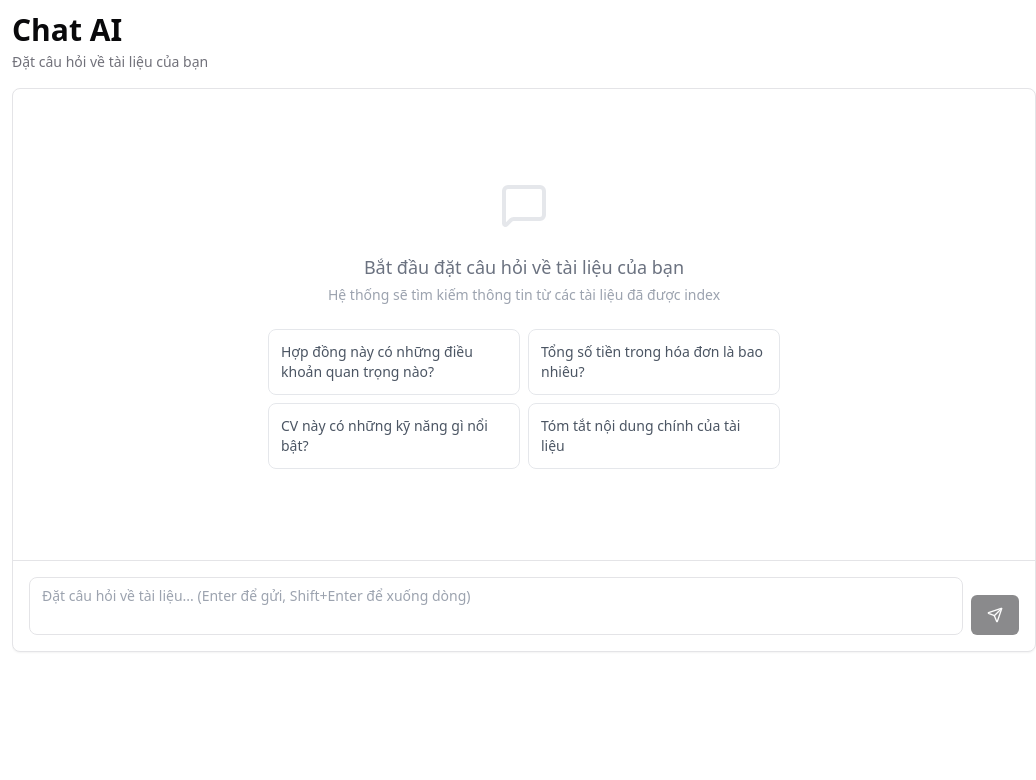
Test: ChatPage › shows AI answer with sources after response
The width and height of the screenshot is (1036, 780).
Replace the text in the text box named "nhập câu hỏi" with "Tổng tiền là bao nhiêu?" at (496, 606), box [29,577,963,635]
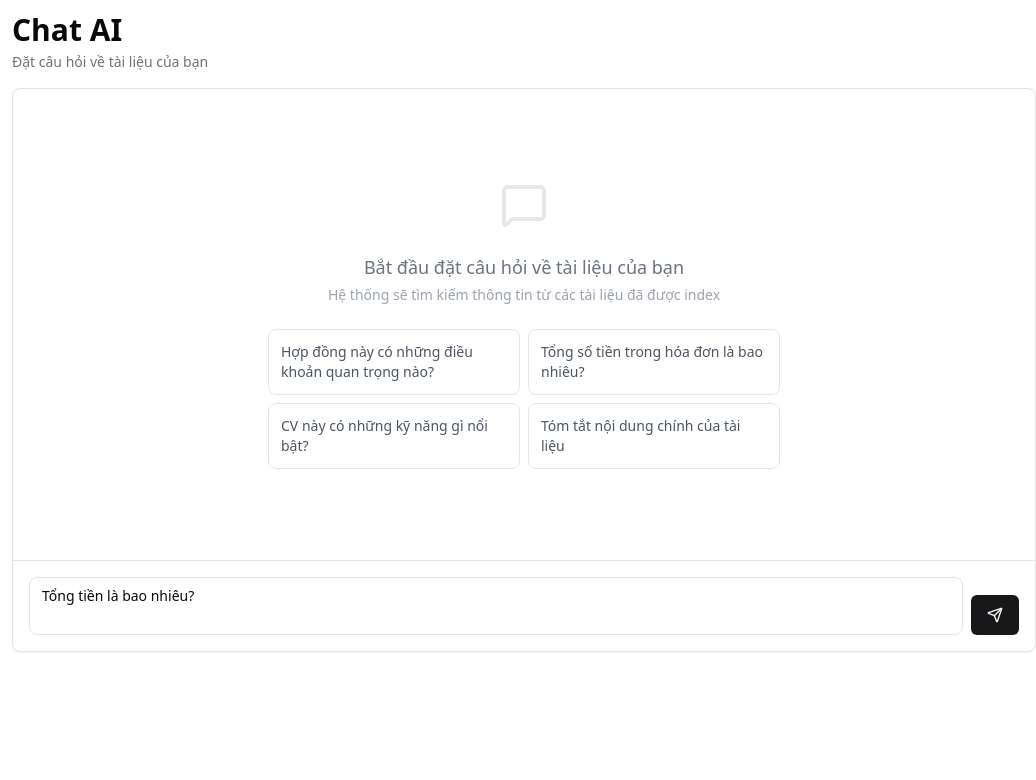
Click the button named "gửi tin nhắn" at (995, 615), box [971,595,1019,635]
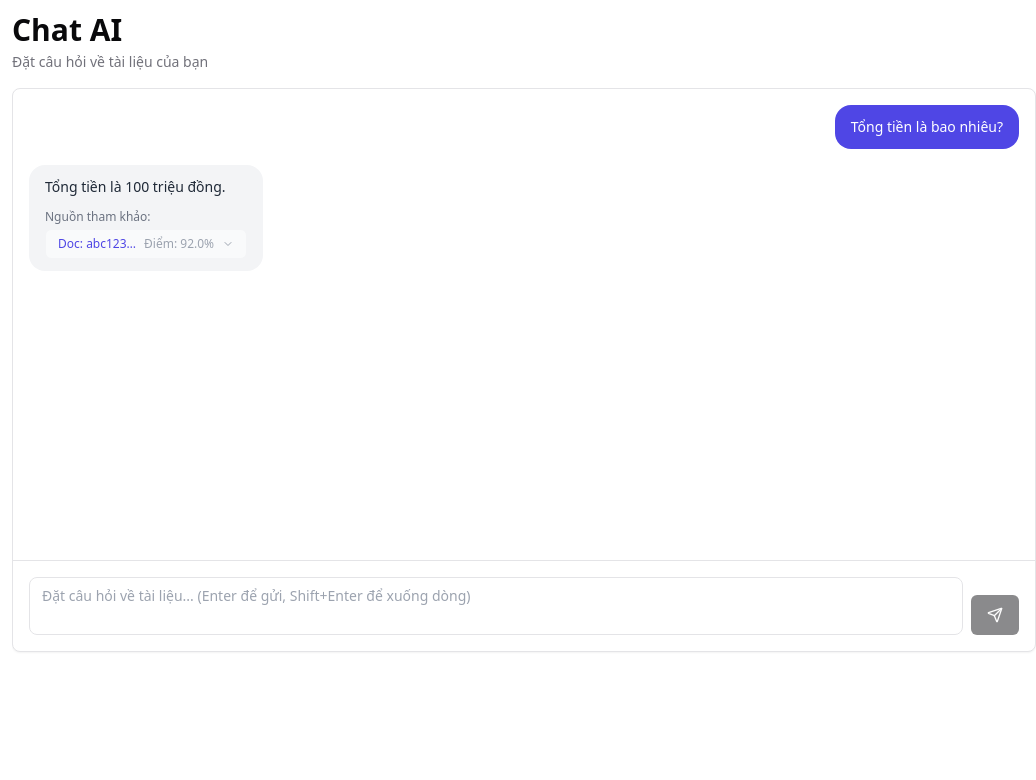
Expected: the text "Tổng tiền là 100 triệu đồng." is shown, [45,177,247,197]
Expected: the text "Nguồn tham khảo:" is shown, [45,208,151,225]
